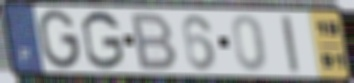0: (229, 13, 269, 74)
6: (180, 12, 217, 72)
B: (130, 11, 180, 72)
G: (79, 9, 127, 72), (37, 8, 82, 71)
I: (278, 14, 302, 74)
